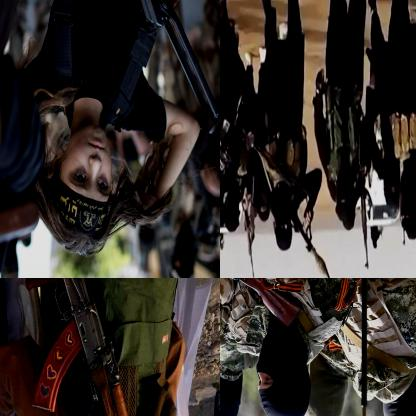rifle: (24, 278, 164, 415), (98, 0, 219, 135), (0, 0, 42, 277), (250, 134, 312, 199), (291, 214, 335, 277), (357, 173, 374, 270), (220, 105, 232, 174)
